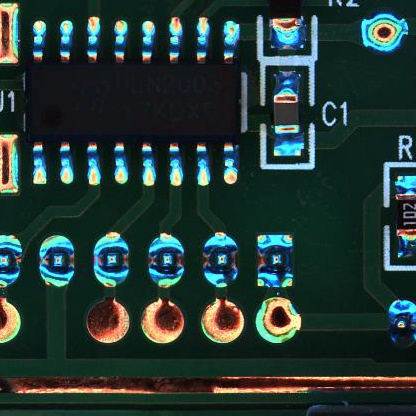spot: (254, 232, 297, 288), (201, 229, 239, 288), (148, 228, 184, 289), (37, 234, 75, 289), (361, 11, 408, 55), (94, 230, 128, 288), (386, 298, 416, 351)
